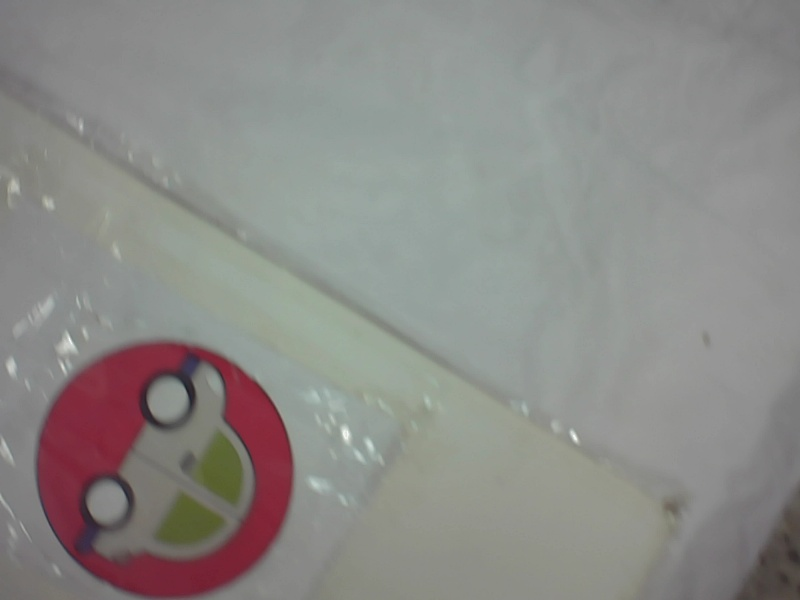areaC: (27, 341, 300, 592)
